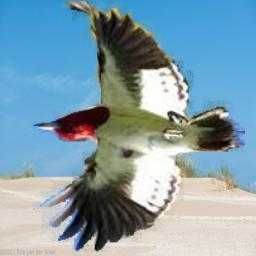Woodpecker: (33, 1, 245, 252)
